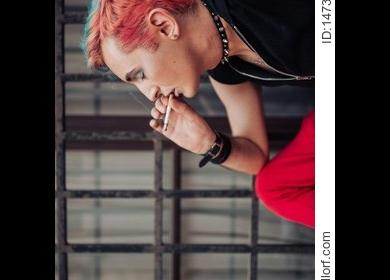Cigarette: (83, 0, 315, 224), (164, 94, 176, 130)
